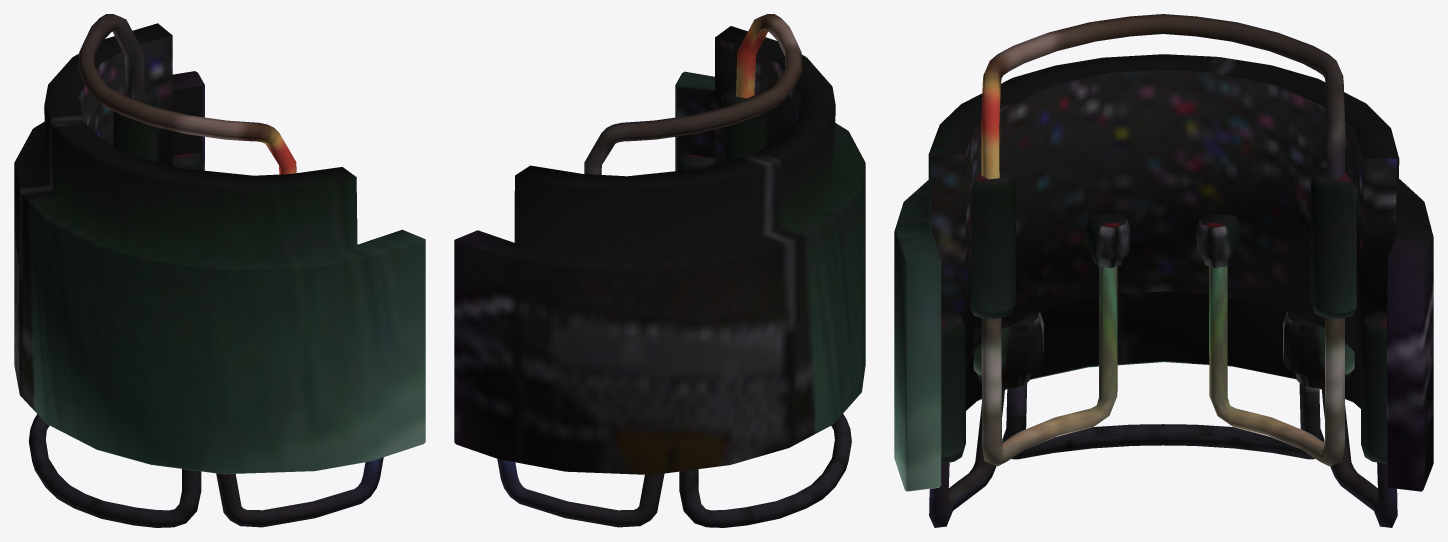
The model's file is shoulderPad.fbx.
3 renders of one model, left to right at view 1: azimuth 30°, elevation 25°; view 2: azimuth 150°, elevation 25°; view 3: azimuth 270°, elevation 25°, orthographic. The views are drawn at different scales.
Visible parts, largest first — view 1: Body; view 2: Body; view 3: Body.
Part boxes in pixels (x1,y1,x2,y2): Body: (14, 14, 425, 527); Body: (454, 14, 865, 527); Body: (894, 14, 1433, 527).
Size of the model in its own units: 60.77 by 87.22 by 94.75.
